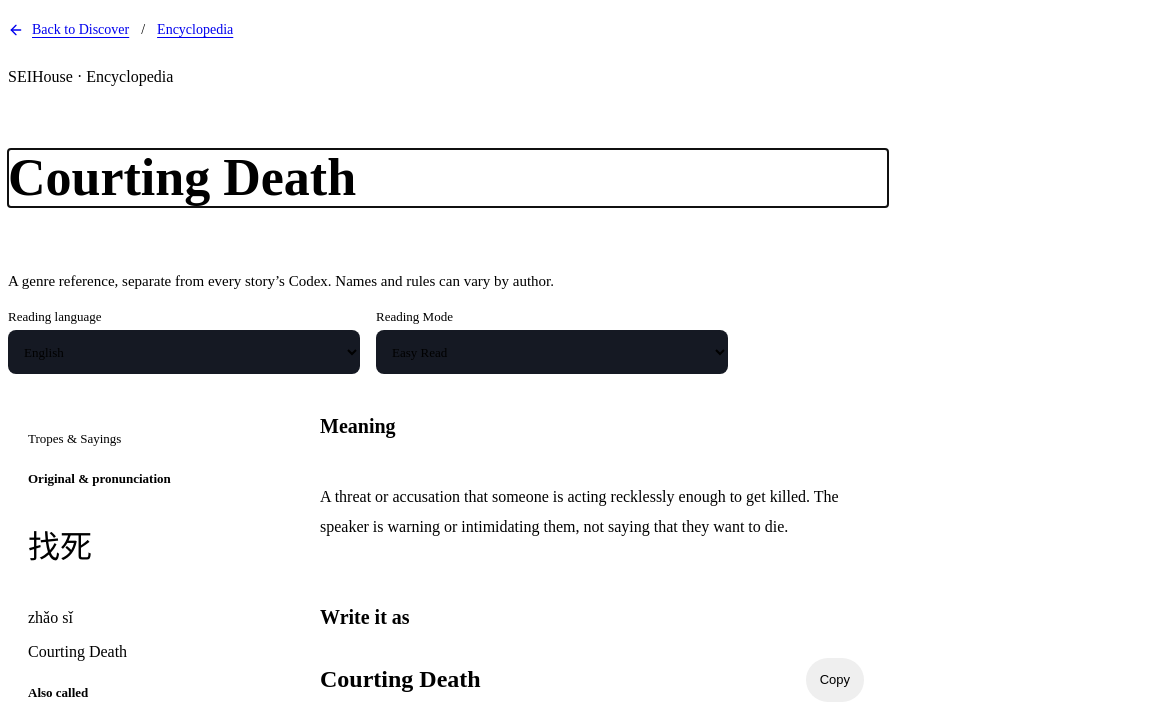
Test: changes actual reading content, keeps literal idiom meanings, and follows related terms
The image size is (1152, 720).
Select "Easy Read" in the dropdown labelled "Reading Mode": (552, 352) [376,330,728,374]
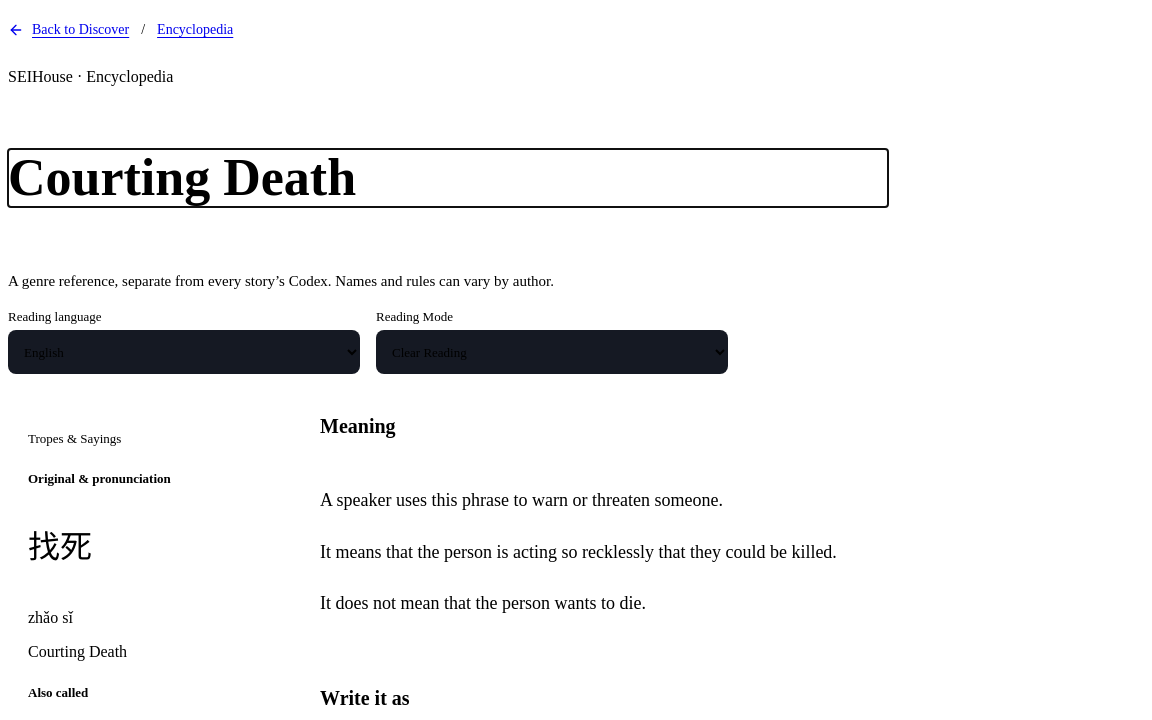
Expected: the text "Write it as" is shown, [320,687,410,709]
Now the text "A threat or accusation that someone is acting recklessly enough to get killed. The speaker is warning or intimidating them, not saying that they want to die." is gone
Now the text "does not mean that the person wants to die" is shown, box [320,593,646,613]
Select "Clear Reading" in the dropdown labelled "Reading Mode": (552, 352) [376,330,728,374]
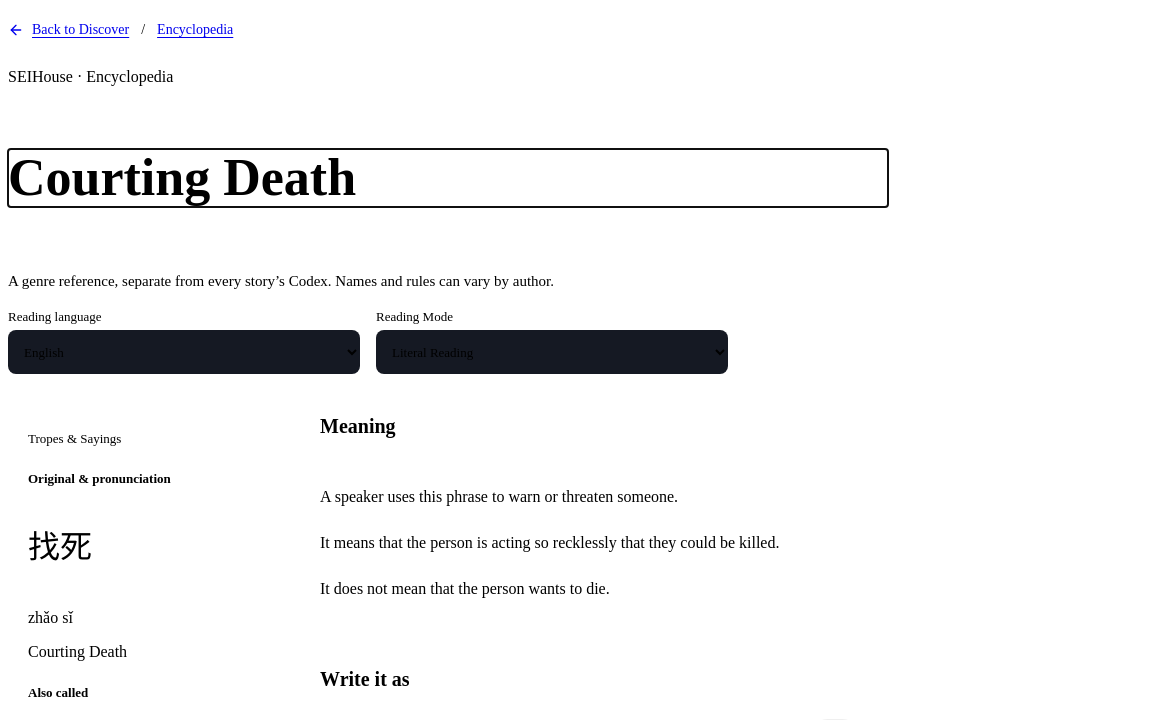
Select "Literal Reading" in the dropdown labelled "Reading Mode": (552, 352) [376,330,728,374]
(page scrolled)
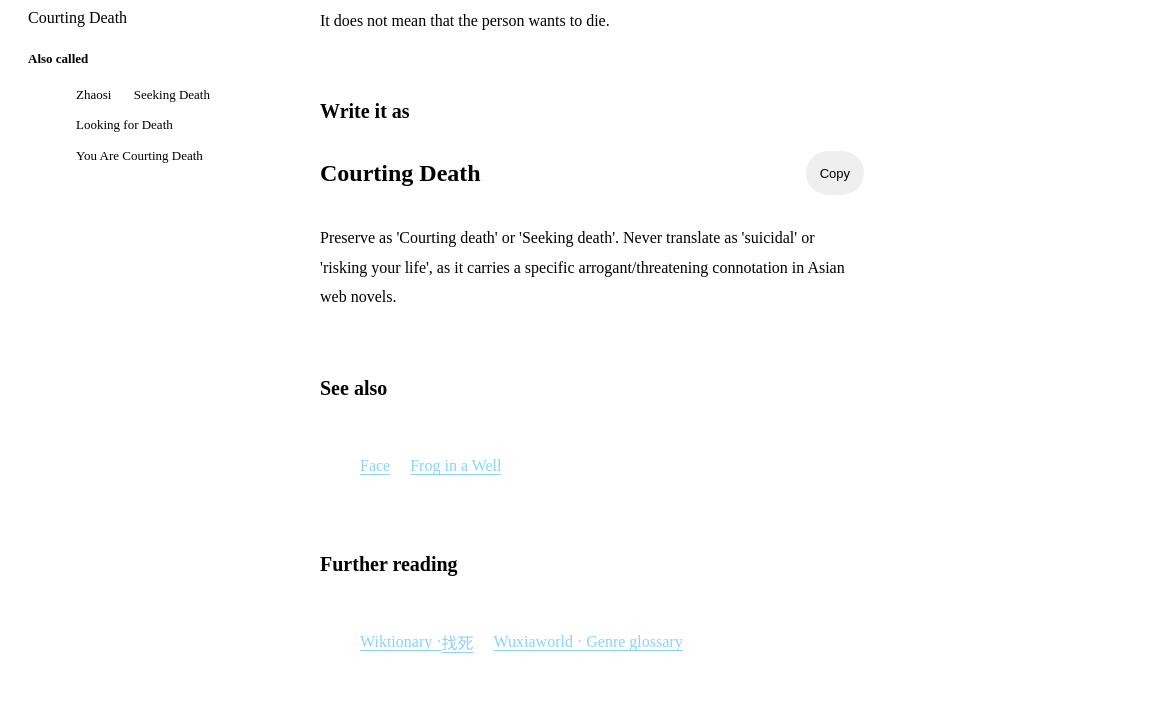
Now the text "does not mean that the person wants to die" is shown, box [320,12,610,28]
Click the link "Face": click(375, 466) [360,457,390,474]
(page scrolled)
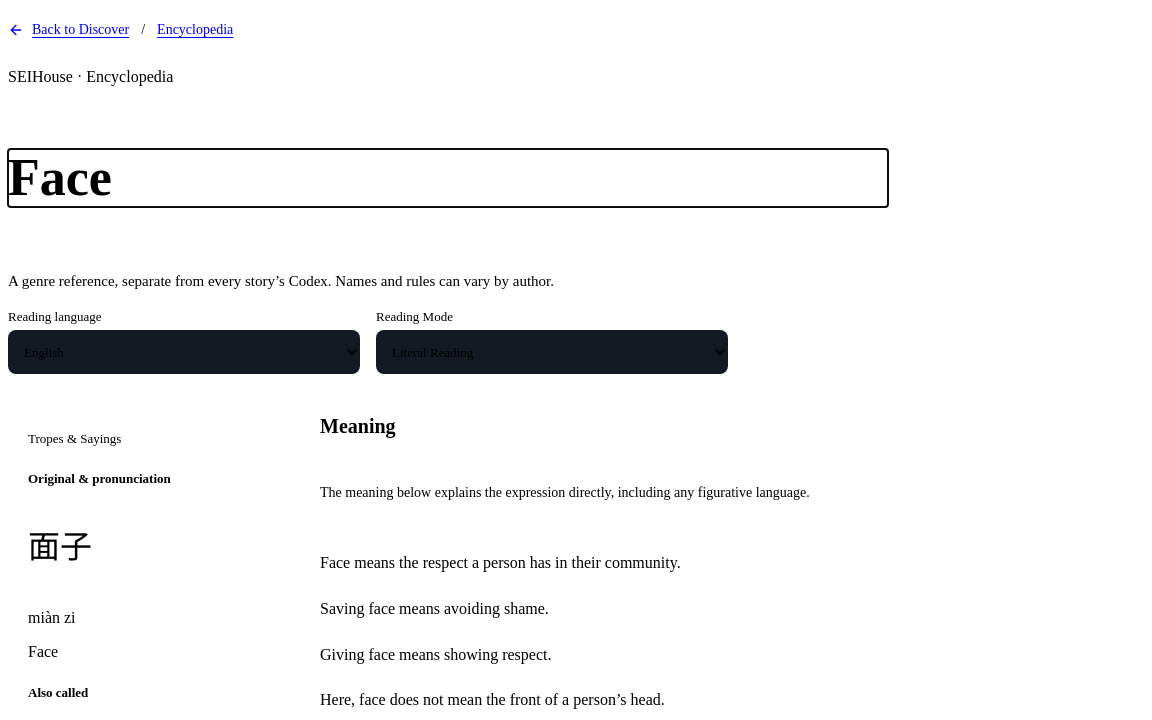
Now the heading "Face" is shown, box [8,149,112,206]
